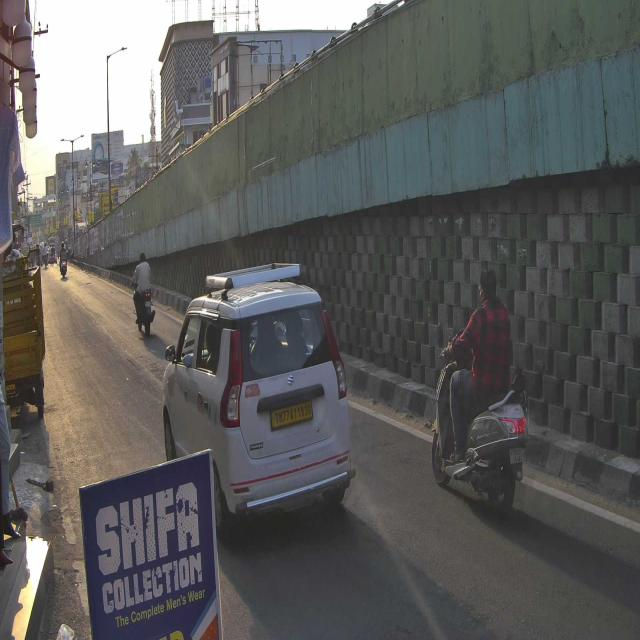single_rider: (432, 265, 528, 509)
